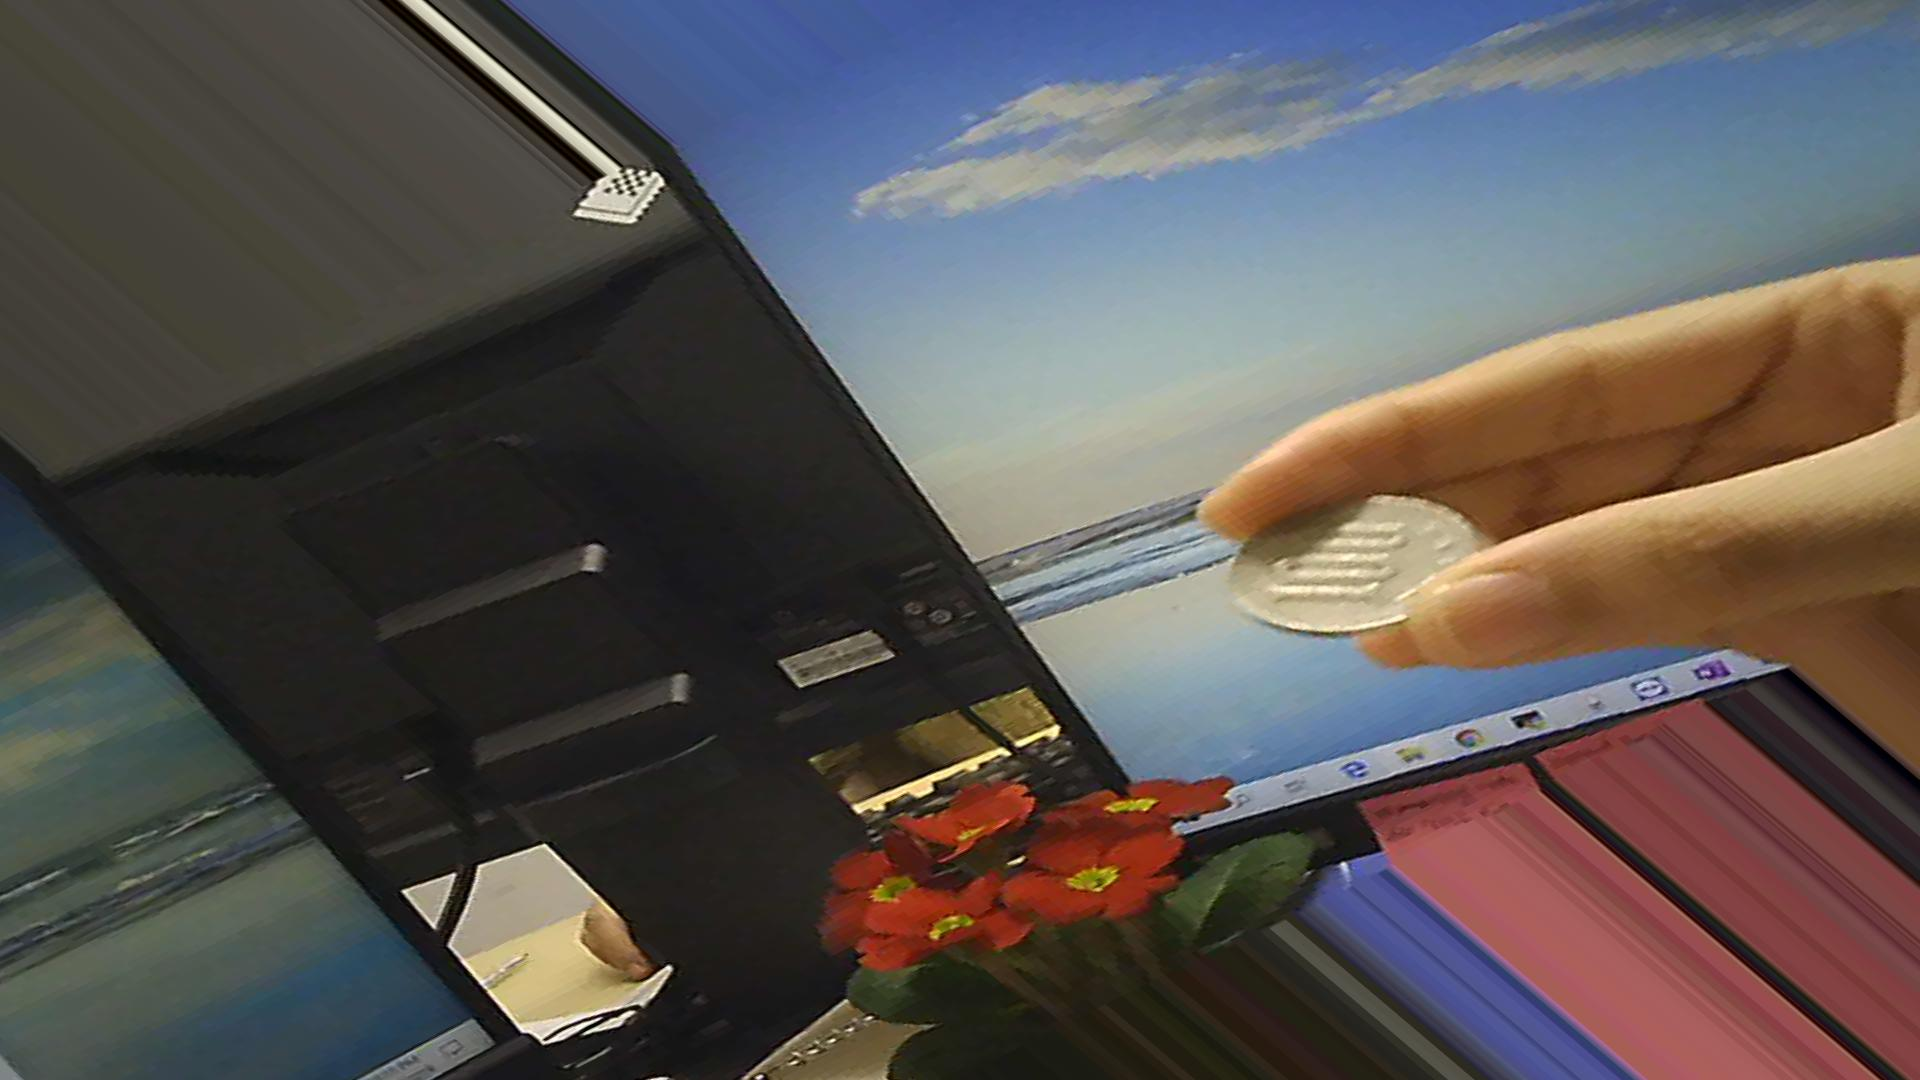100 Yen: (1233, 479, 1502, 646)
